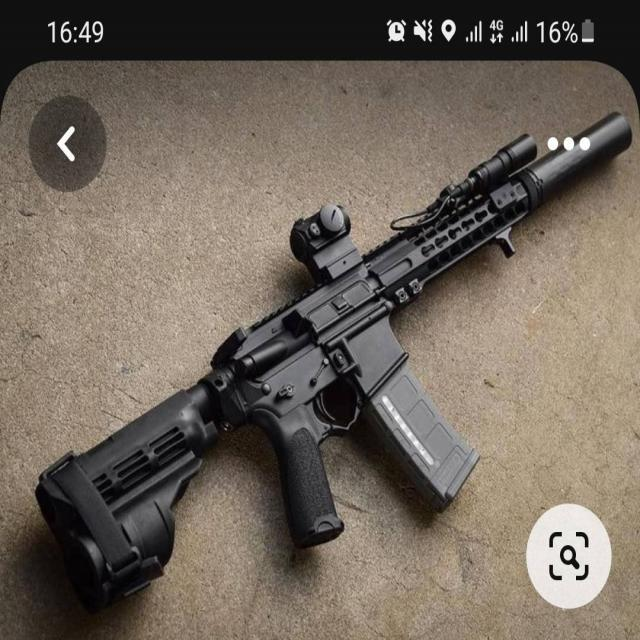m16: (17, 264, 494, 612)
